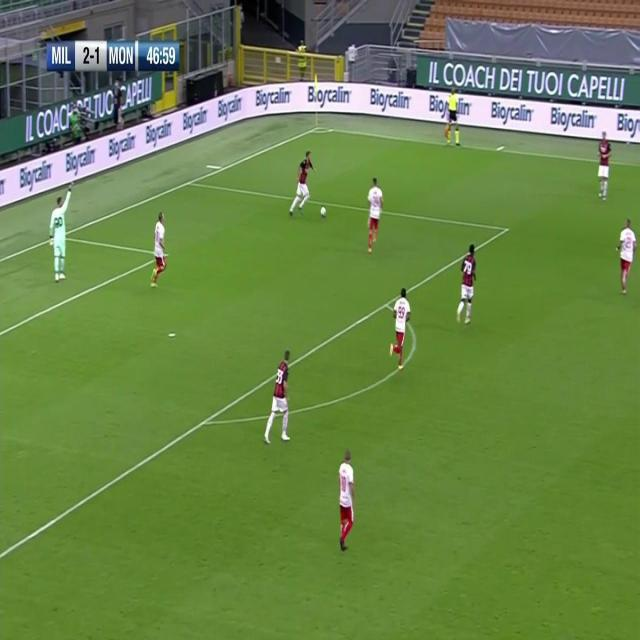ball: (320, 203, 328, 220)
player: (264, 351, 294, 447), (49, 182, 73, 284), (336, 447, 358, 554), (388, 286, 413, 372), (288, 148, 316, 220), (456, 241, 478, 330), (614, 218, 636, 294), (364, 174, 384, 257), (149, 209, 169, 290), (596, 130, 612, 202), (444, 85, 462, 148)
